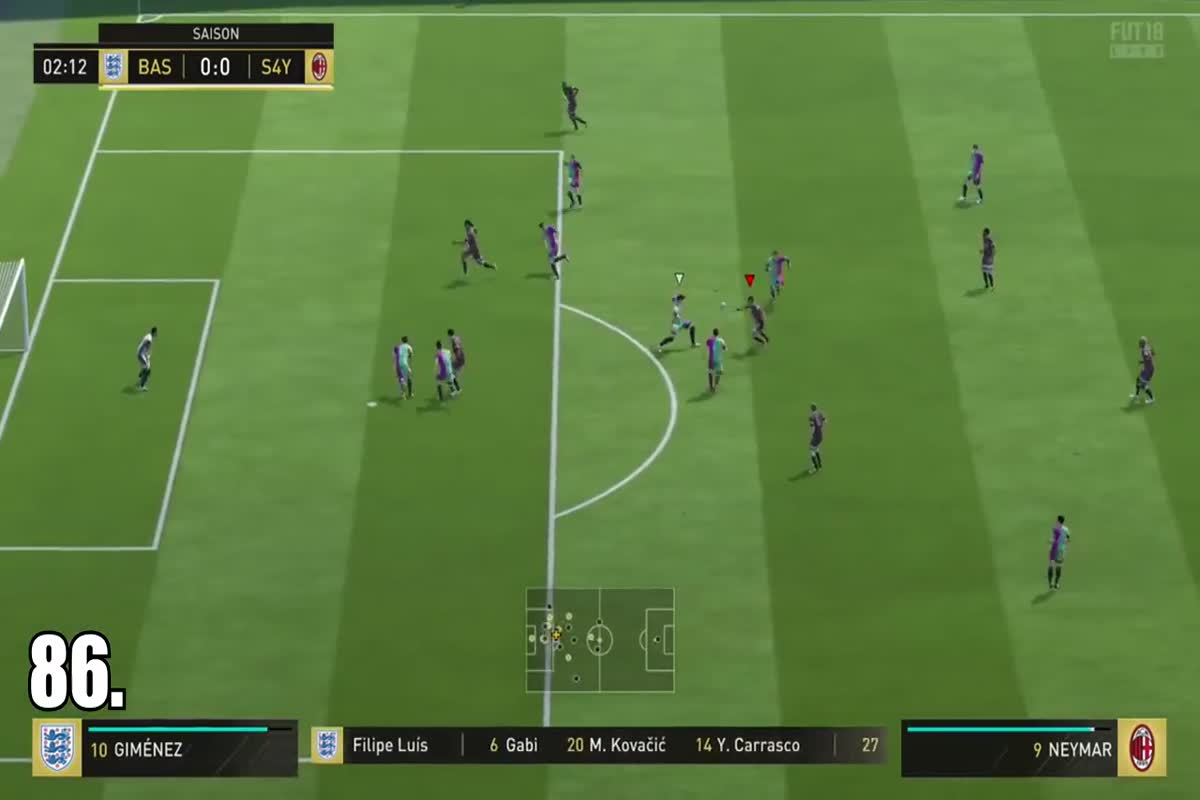ball: (713, 294, 732, 313)
